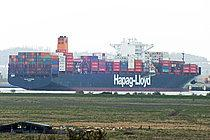Ship: (6, 35, 203, 95)
